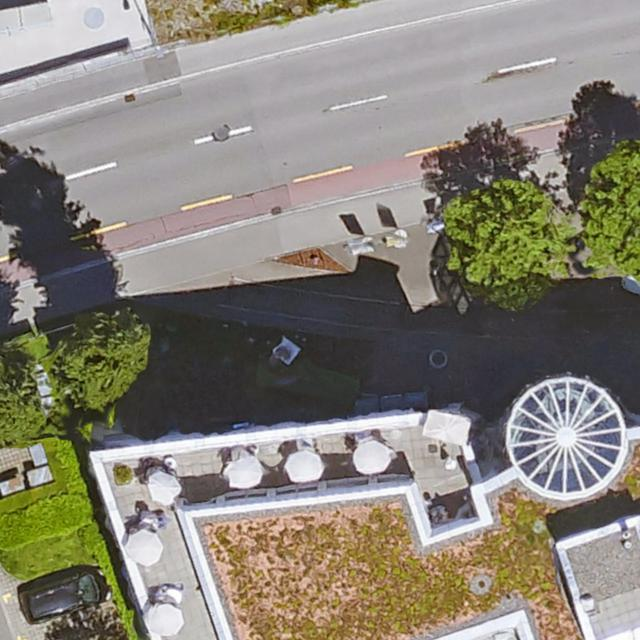tree: (444, 181, 567, 315), (62, 311, 151, 409), (580, 144, 640, 277), (0, 359, 49, 447), (47, 602, 126, 640)
